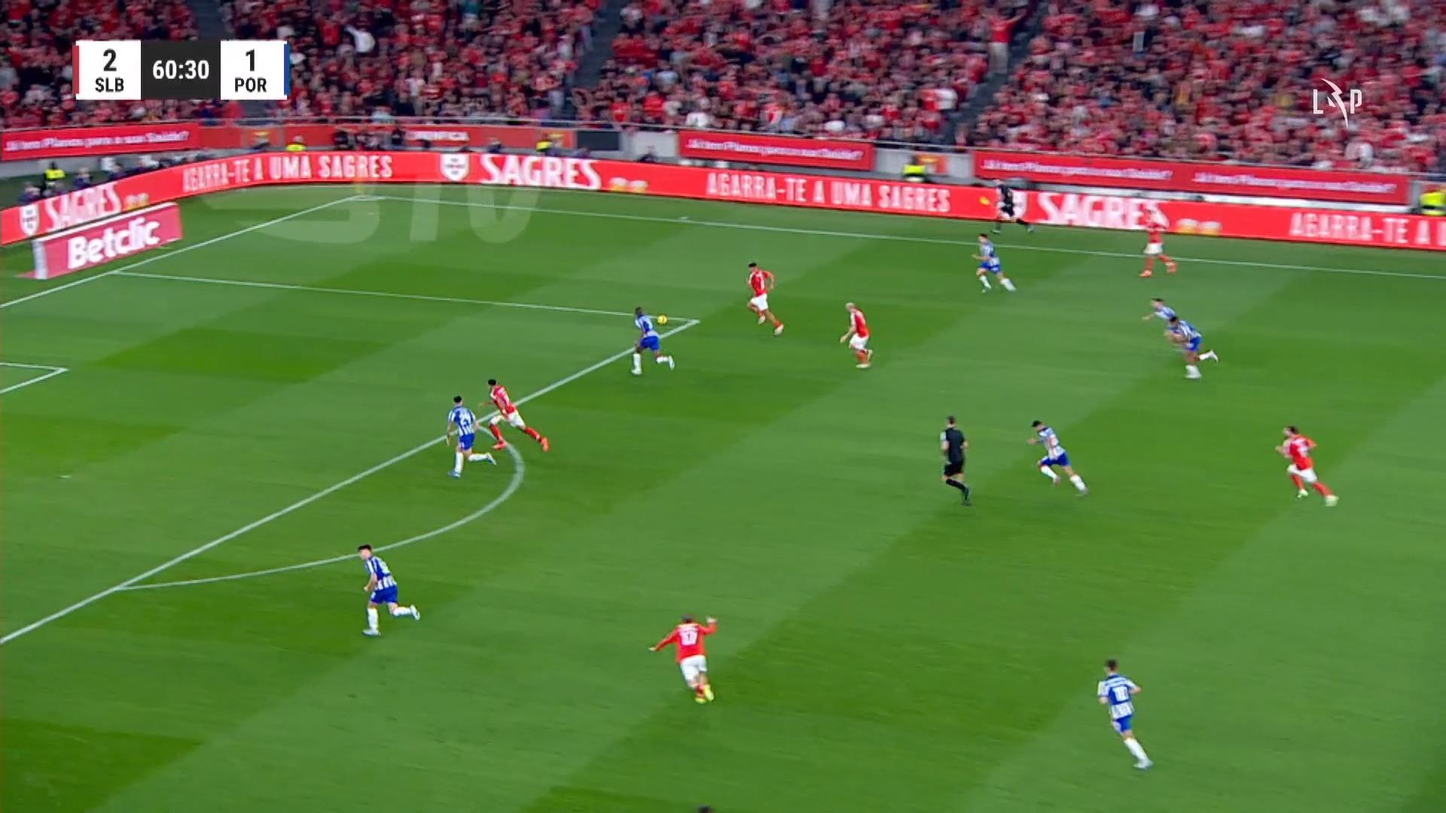ball: (657, 314, 667, 324)
player: (1141, 297, 1219, 379), (1096, 657, 1153, 769), (648, 613, 718, 704), (356, 543, 420, 637), (477, 378, 550, 452), (1274, 423, 1338, 507), (1027, 419, 1088, 497), (444, 394, 496, 478), (629, 306, 675, 375), (1136, 202, 1177, 277), (746, 260, 784, 336), (972, 232, 1017, 294), (839, 300, 873, 369)
referee: (938, 414, 972, 505), (990, 178, 1036, 235)
